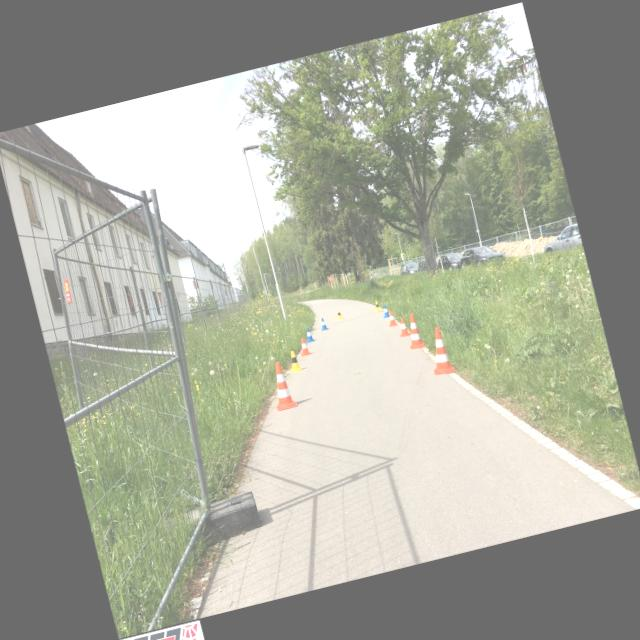blue_cone: (304, 326, 314, 342), (318, 317, 328, 330), (381, 304, 390, 318)
large_orange_cone: (266, 359, 297, 410), (424, 325, 454, 376), (402, 312, 426, 349)
orange_cone: (396, 316, 410, 336), (297, 337, 311, 356), (386, 310, 396, 326)
yellow_cone: (286, 350, 302, 372), (335, 308, 343, 320), (373, 300, 381, 312)
